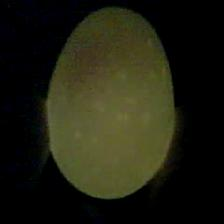infertile: (44, 4, 176, 200)
